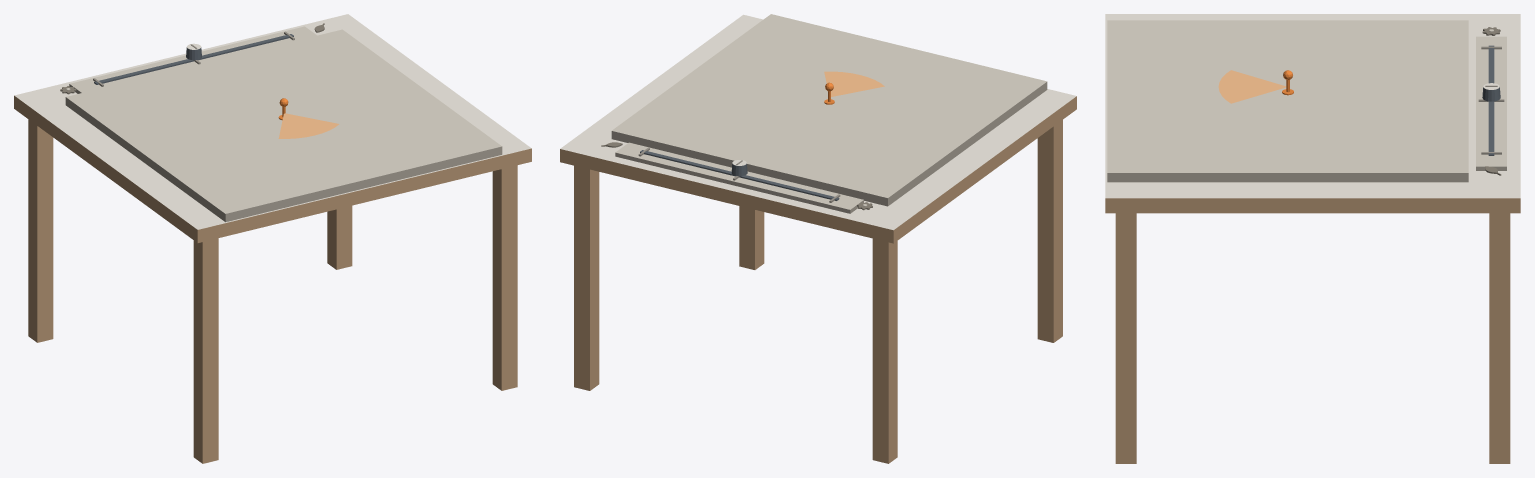
The model's file is Street_Table.fbx.
3 views of the same model, side by side, from view 1: azimuth 30°, elevation 25°; view 2: azimuth 150°, elevation 25°; view 3: azimuth 270°, elevation 25° (orthographic). The views are drawn at different scales.
Visible parts, largest first — view 1: Rig_Plinth, Rig_Table, Rig_Track, Rig_ViewCone; view 2: Rig_Plinth, Rig_Table, Rig_Track, Rig_ViewCone; view 3: Rig_Plinth, Rig_Table, Rig_Track, Rig_ViewCone.
Part boxes in pixels (box(x1,y1,x2,y2)): Rig_Plinth: box(65, 29, 502, 222); Rig_Table: box(14, 14, 531, 463); Rig_Track: box(69, 26, 316, 93); Rig_ViewCone: box(278, 113, 339, 138); Rig_Plinth: box(611, 14, 1047, 206); Rig_Table: box(560, 14, 1076, 463); Rig_Track: box(615, 142, 863, 213); Rig_ViewCone: box(824, 71, 884, 96); Rig_Plinth: box(1107, 20, 1468, 182); Rig_Table: box(1105, 14, 1520, 463); Rig_Track: box(1476, 36, 1506, 170); Rig_ViewCone: box(1218, 70, 1286, 103).
Size of the model in its own units: 1.05 by 0.8146 by 1.
